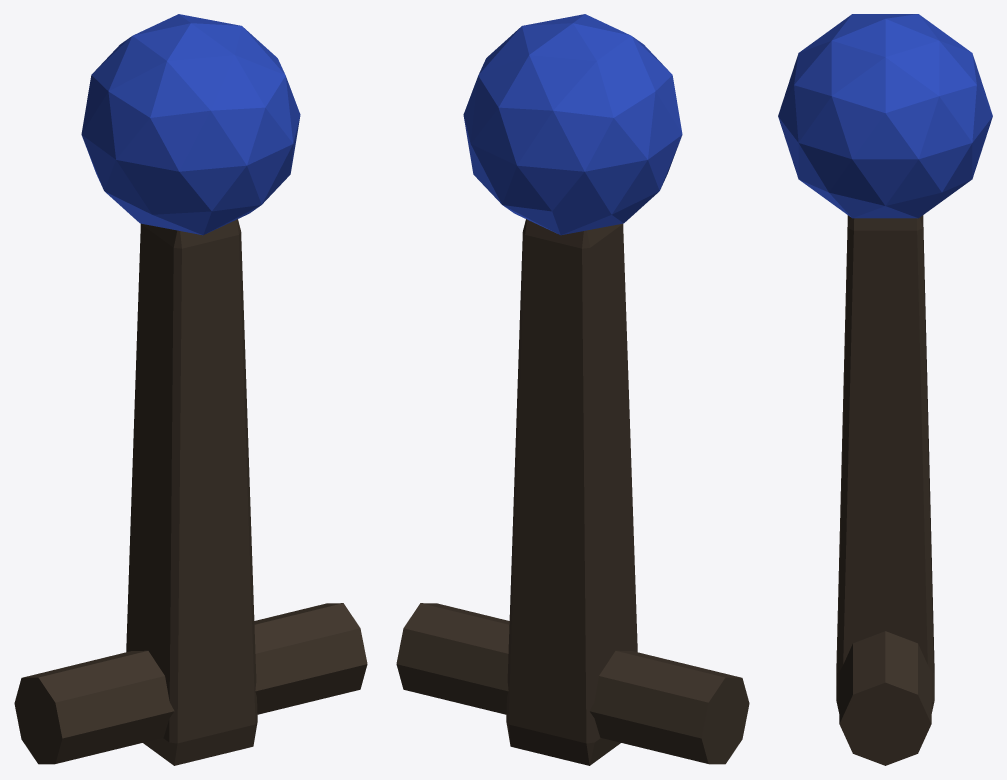
Rendered from LeverTop.fbx.
3 renders of one model, left to right at view 1: azimuth 30°, elevation 25°; view 2: azimuth 150°, elevation 25°; view 3: azimuth 270°, elevation 25°, orthographic. The views are drawn at different scales.
Visible parts, largest first — view 1: Cube.009, Icosphere.017, Lever Top; view 2: Cube.009, Icosphere.017, Lever Top; view 3: Cube.009, Icosphere.017, Lever Top.
Boxes of the visible parts, bbox=[...] form: Cube.009: bbox=[126, 219, 257, 765]; Icosphere.017: bbox=[81, 14, 300, 235]; Lever Top: bbox=[14, 603, 367, 764]; Cube.009: bbox=[506, 219, 637, 765]; Icosphere.017: bbox=[463, 14, 682, 235]; Lever Top: bbox=[396, 603, 749, 764]; Cube.009: bbox=[836, 215, 934, 713]; Icosphere.017: bbox=[778, 14, 992, 218]; Lever Top: bbox=[839, 631, 931, 765].
Bounding box in the file's own units: 130 × 293 × 82.9.
